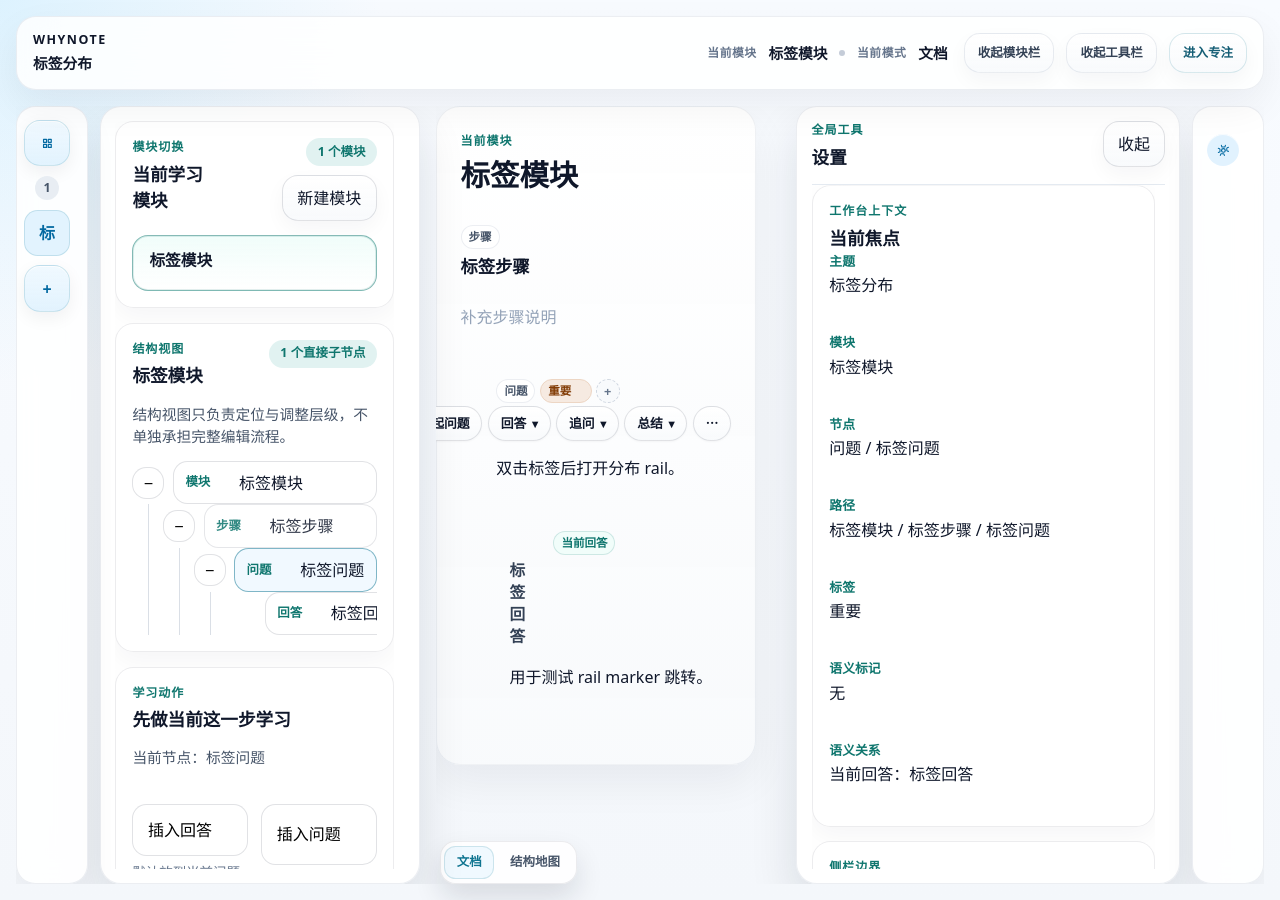
Test case: shows the inline tag add entry only for the active or hovered editor node
This screenshot has width=1280, height=900.
Expected: the button with test id "editor-tag-entry-question-tag-rail" is shown, [596, 379, 620, 403]
Hover over the element with test id "editor-node-answer-tag-rail" at [584, 543], box [504, 531, 726, 696]
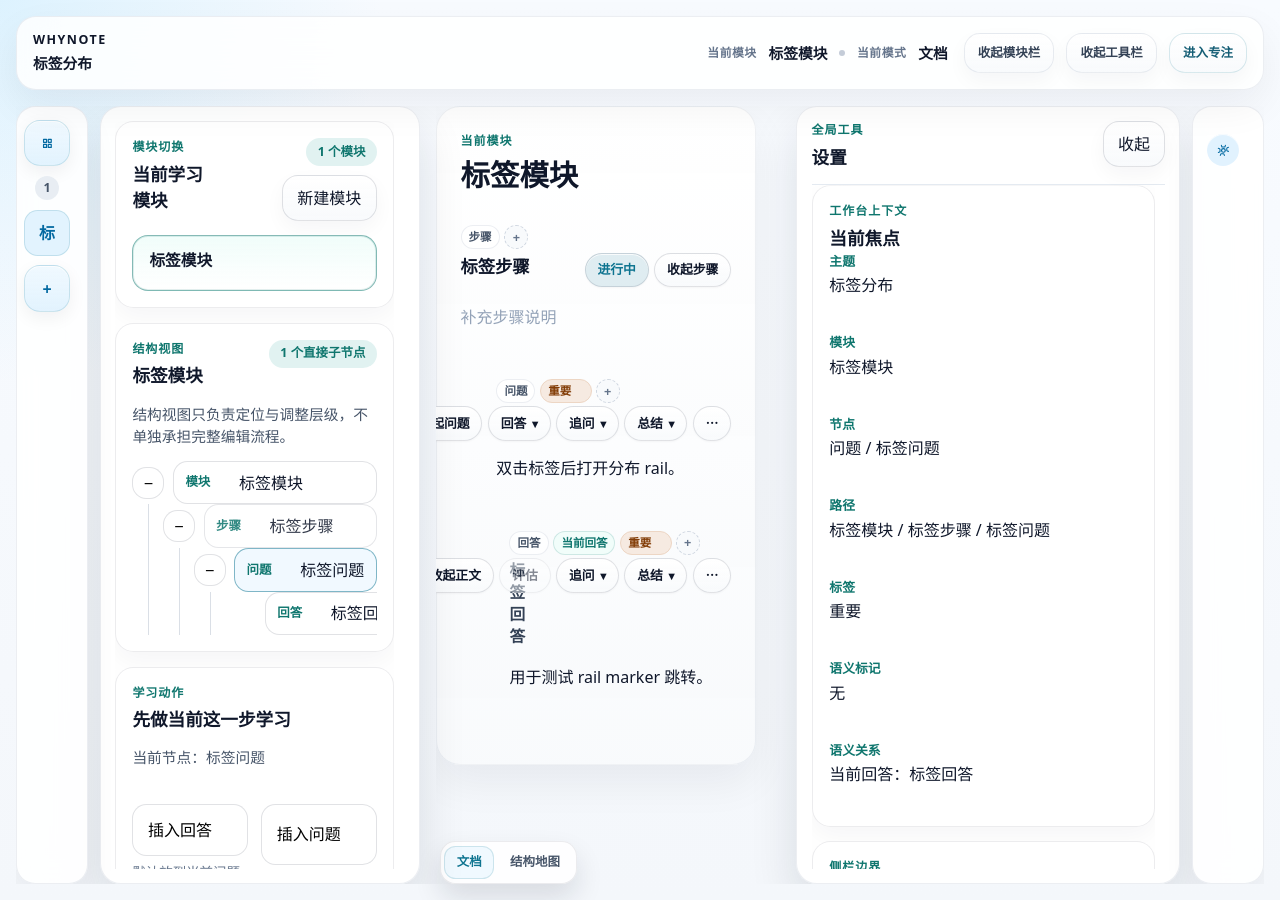
Result: the button with test id "editor-tag-entry-answer-tag-rail" is shown at [676, 531, 700, 555]
Move the pointer off the element with test id "editor-node-answer-tag-rail", box [460, 516, 731, 710]
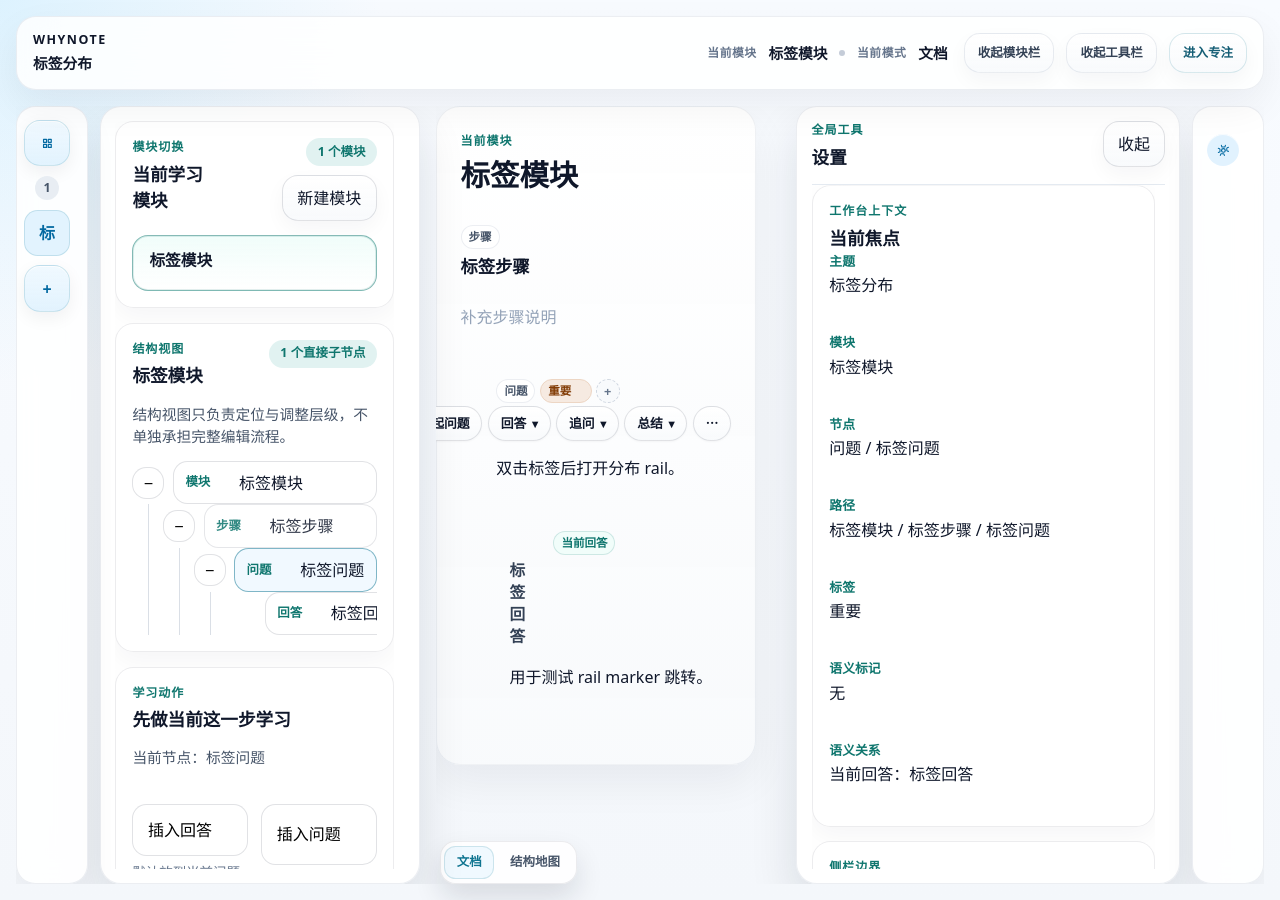
Result: the button with test id "editor-tag-entry-answer-tag-rail" is gone
